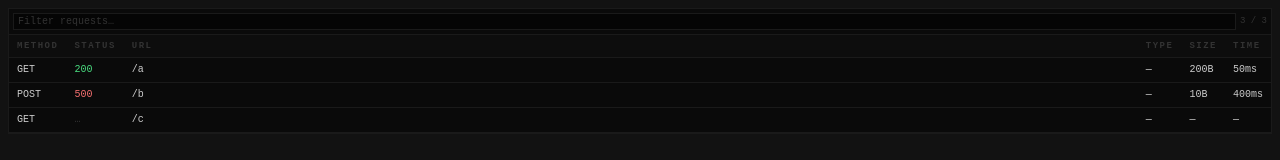
Test case: NetworkInspector › filters by URL
Type "/b" into the search field. click: (624, 22)
box: [13,13,1236,30]
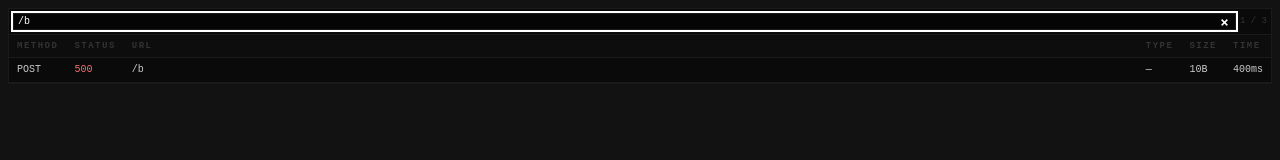
Check: the text "/b" is shown, box [124,58,1138,83]
Check: the text "/a" is gone
